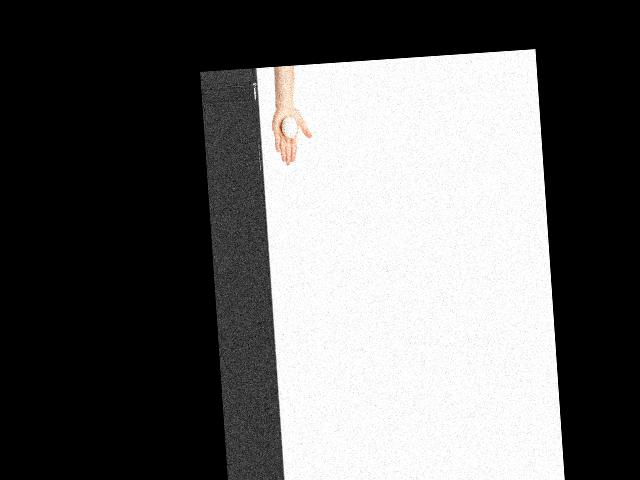egg: (281, 117, 297, 139)
